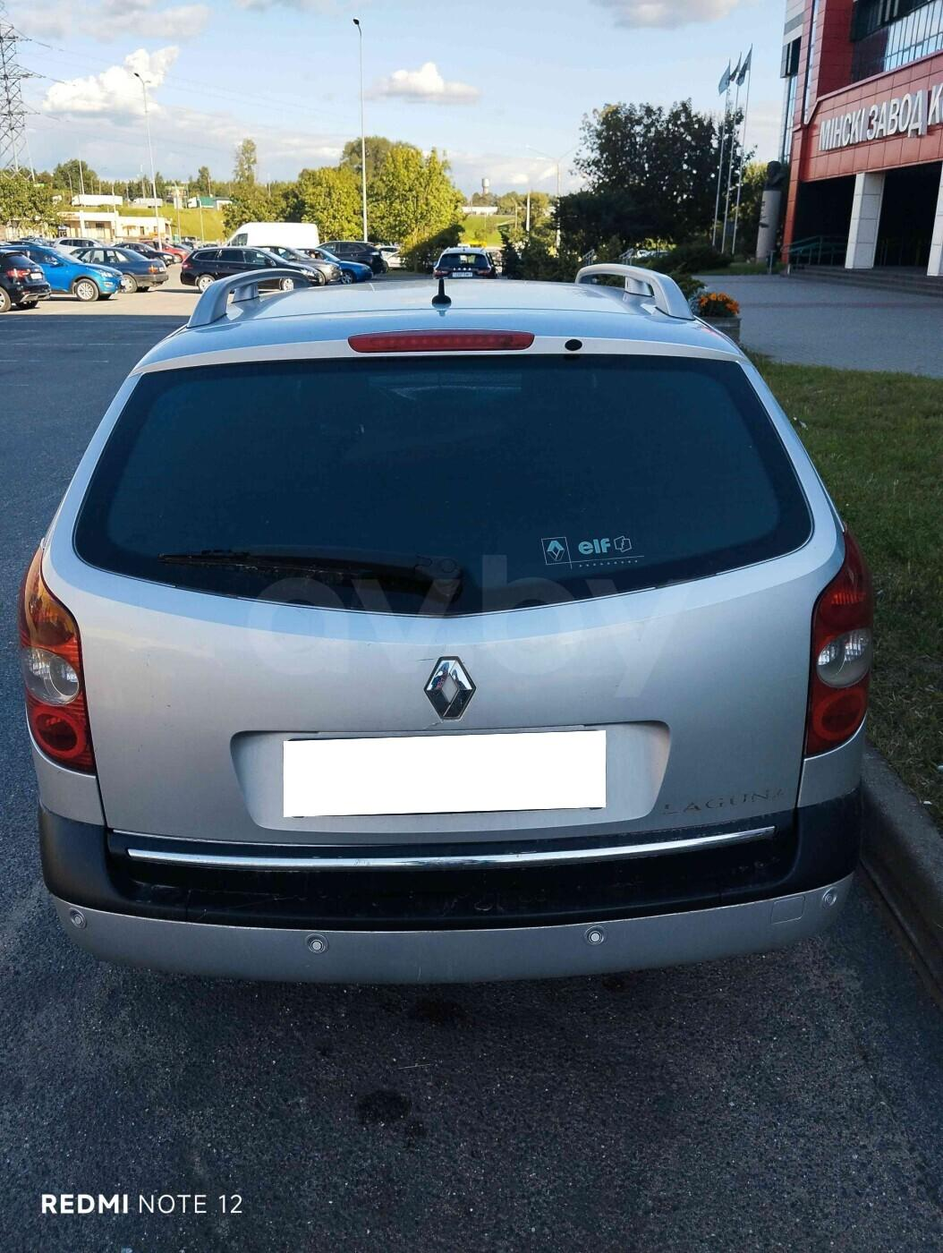Laguna_2005-2007: (18, 265, 882, 1035)
